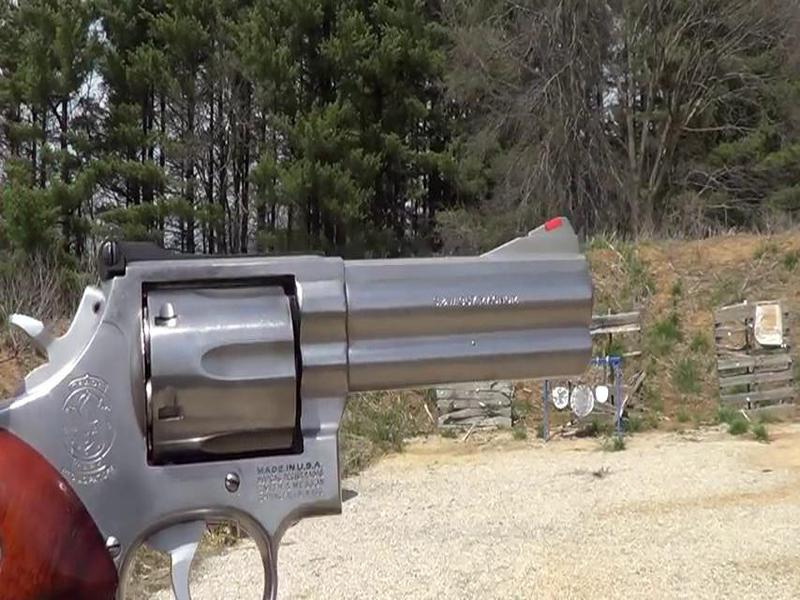Revolver: (10, 225, 602, 596)
